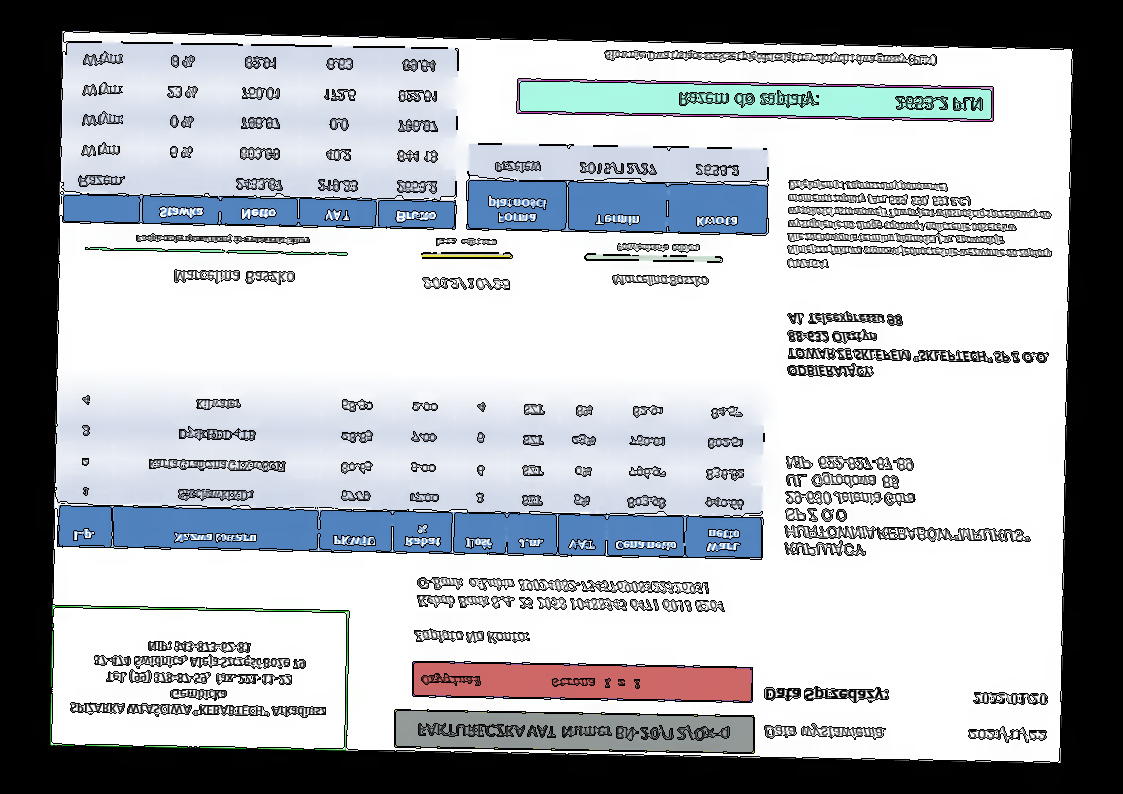Table: (56, 382, 767, 563), (61, 40, 460, 230), (465, 142, 770, 236)
TextBox: (781, 453, 1033, 563), (785, 177, 1054, 275), (67, 637, 328, 723), (784, 309, 1052, 385), (415, 574, 726, 617), (414, 718, 732, 745), (677, 88, 982, 115), (602, 47, 939, 70), (418, 670, 644, 693), (763, 682, 893, 706), (761, 721, 888, 744), (133, 231, 312, 247), (412, 627, 534, 649), (172, 268, 295, 286), (964, 724, 1049, 746), (611, 272, 710, 289), (420, 276, 514, 293), (970, 689, 1051, 708), (616, 241, 701, 255), (434, 236, 498, 250)
